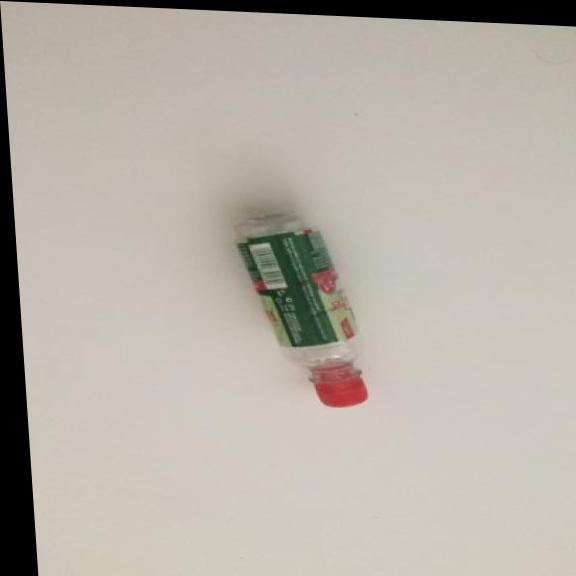Plastik: (221, 203, 379, 412)
